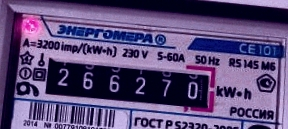0: (184, 79, 199, 100)
2: (54, 66, 71, 88), (131, 74, 147, 96)
6: (80, 69, 95, 91), (106, 73, 121, 94)
7: (157, 77, 171, 97)
screen: (34, 46, 223, 118)
